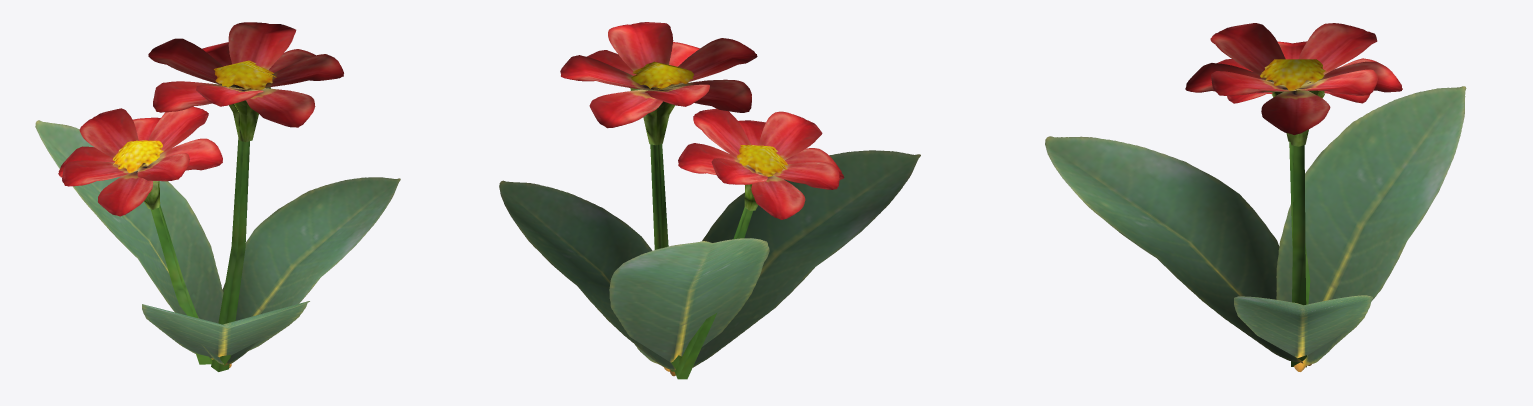
File: redf4.obj
The picture shows the model from 3 angles, left to right: view 1: azimuth 30°, elevation 25°; view 2: azimuth 150°, elevation 25°; view 3: azimuth 270°, elevation 25°; orthographic projection. The views are drawn at different scales.
Visible parts, largest first — view 1: redflower04; view 2: redflower04; view 3: redflower04.
Boxes of the visible parts, box(x1,y1,x2,y2) form: redflower04: box(35, 22, 400, 371); redflower04: box(499, 22, 920, 379); redflower04: box(1045, 23, 1466, 371).
Bounding box in the file's own units: 30.67 × 24.16 × 35.46.
Materials: 2 (2 with a texture image).
